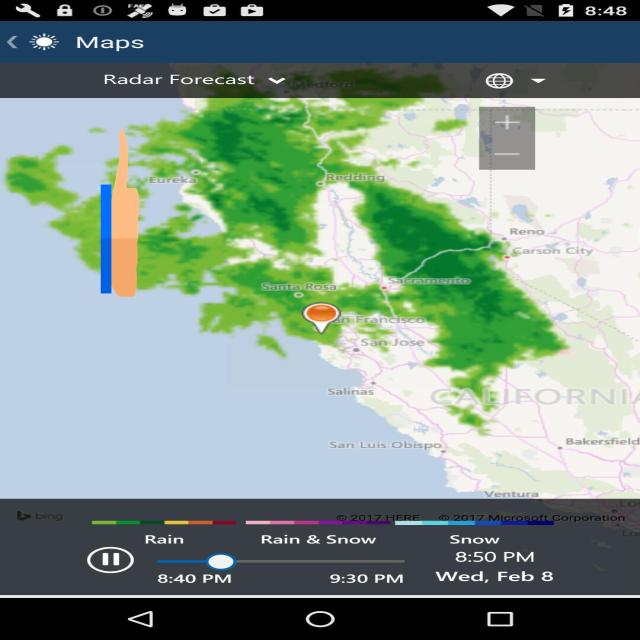privacy zuckering: (101, 125, 139, 301)
